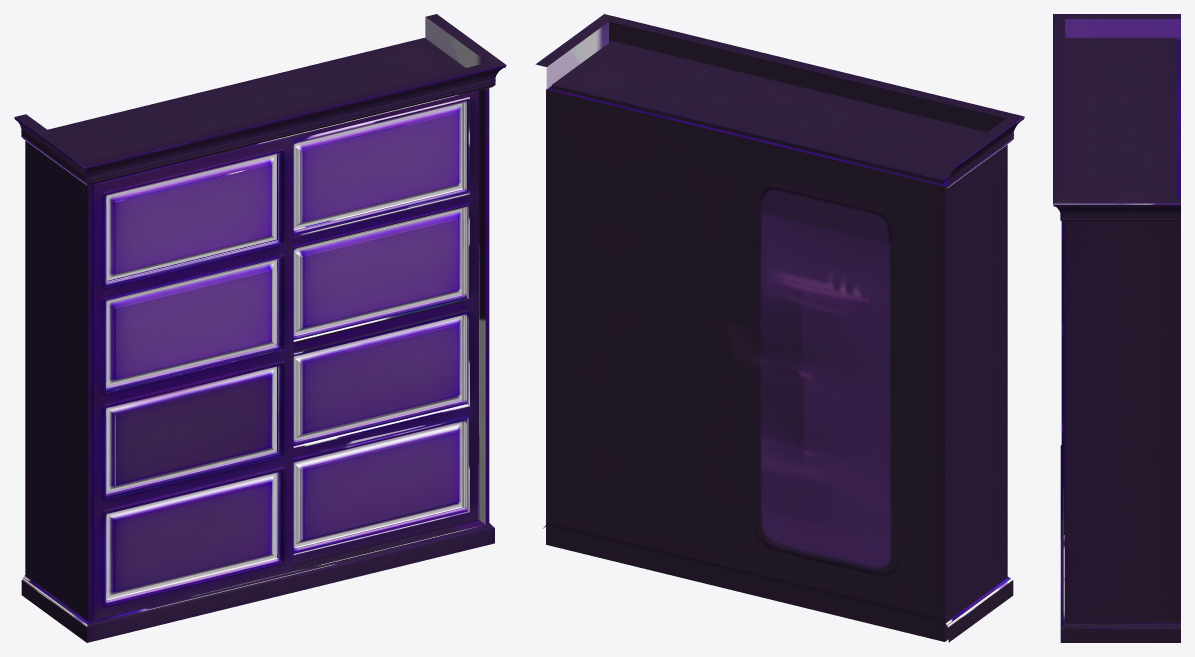
File: edited_mesh.glb
3 views of the same model, side by side, from view 1: azimuth 30°, elevation 25°; view 2: azimuth 150°, elevation 25°; view 3: azimuth 270°, elevation 25° (orthographic). The views are drawn at different scales.
Visible parts, largest first — view 1: normalized_model.obj; view 2: normalized_model.obj; view 3: normalized_model.obj.
Boxes of the visible parts, x1,y1,x2,y2 form: normalized_model.obj: (14,14,506,642); normalized_model.obj: (535,14,1024,642); normalized_model.obj: (1053,14,1180,642).
Size of the model in its own units: 1.26 by 1.37 by 0.359.
Materials: 1 (1 with a texture image).
